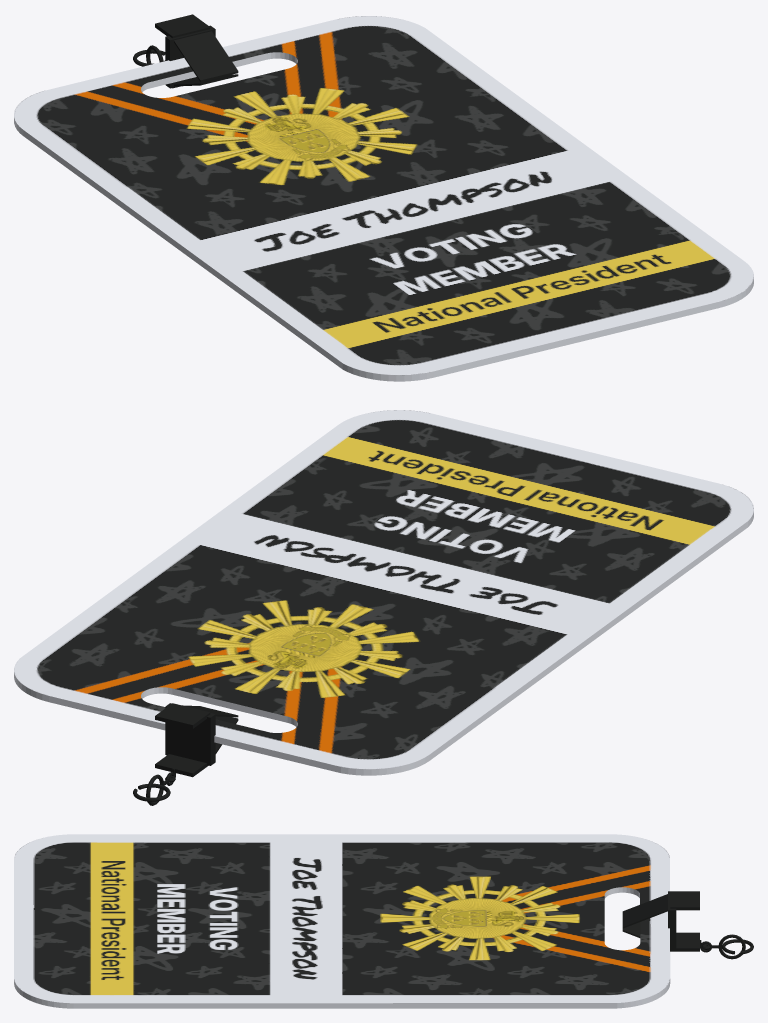
The model's file is card1-original.glb.
3 renders of one model, top to bottom at view 1: azimuth 30°, elevation 25°; view 2: azimuth 150°, elevation 25°; view 3: azimuth 270°, elevation 25°, orthographic. The views are drawn at different scales.
Visible parts, largest first — view 1: card, clip; view 2: card, clip; view 3: card, clip.
Part boxes in pixels (x1=…): card: x1=14, y1=16, x2=753, y2=381; clip: x1=146, y1=14, x2=238, y2=88; card: x1=14, y1=410, x2=753, y2=775; clip: x1=146, y1=703, x2=238, y2=805; card: x1=14, y1=834, x2=670, y2=1008; clip: x1=622, y1=891, x2=745, y2=959.
Bounding box in the file's own units: 3.35 × 0.555 × 6.2.
Materials: 4 (2 with a texture image).
